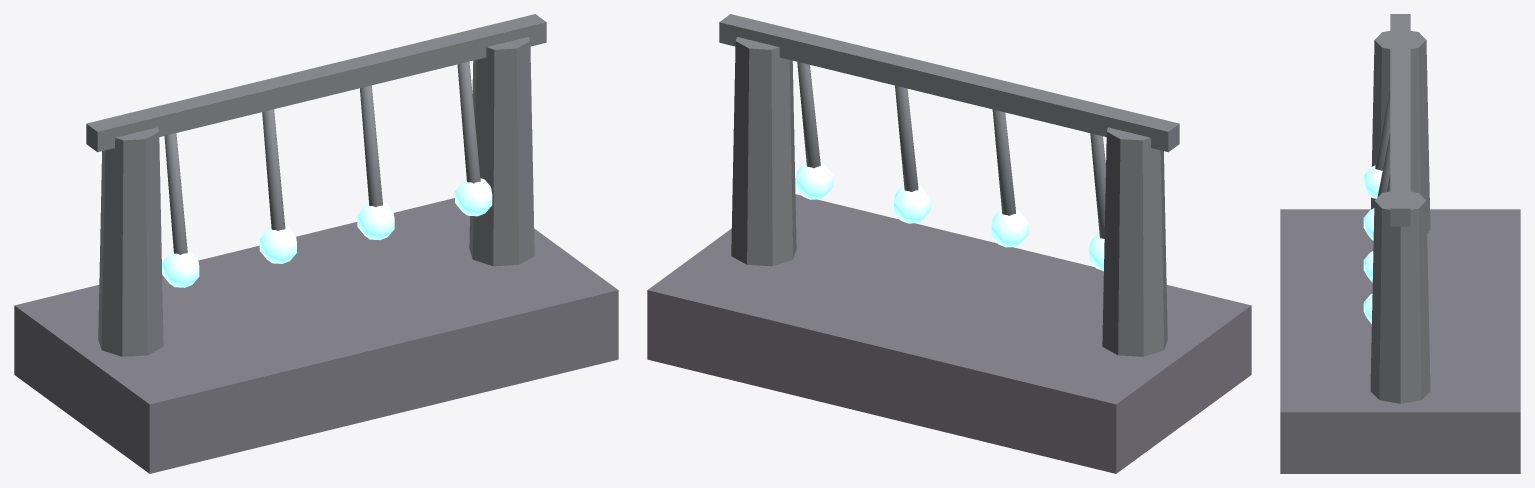
Rendered from mythic-underworld-and-olympus-soul-chain-rack-c24dd07c__21363.glb.
3 renders of one model, left to right at view 1: azimuth 30°, elevation 25°; view 2: azimuth 150°, elevation 25°; view 3: azimuth 270°, elevation 25°, orthographic. The views are drawn at different scales.
Parts seen in each view (by area): view 1: soul-chain-rack; view 2: soul-chain-rack; view 3: soul-chain-rack.
Part boxes in pixels (left/top/right/bottom): soul-chain-rack: left=14, top=14, right=618, bottom=473; soul-chain-rack: left=647, top=14, right=1251, bottom=473; soul-chain-rack: left=1280, top=14, right=1520, bottom=473.
Bounding box in the file's own units: 2.4 × 1.44 × 1.2.
